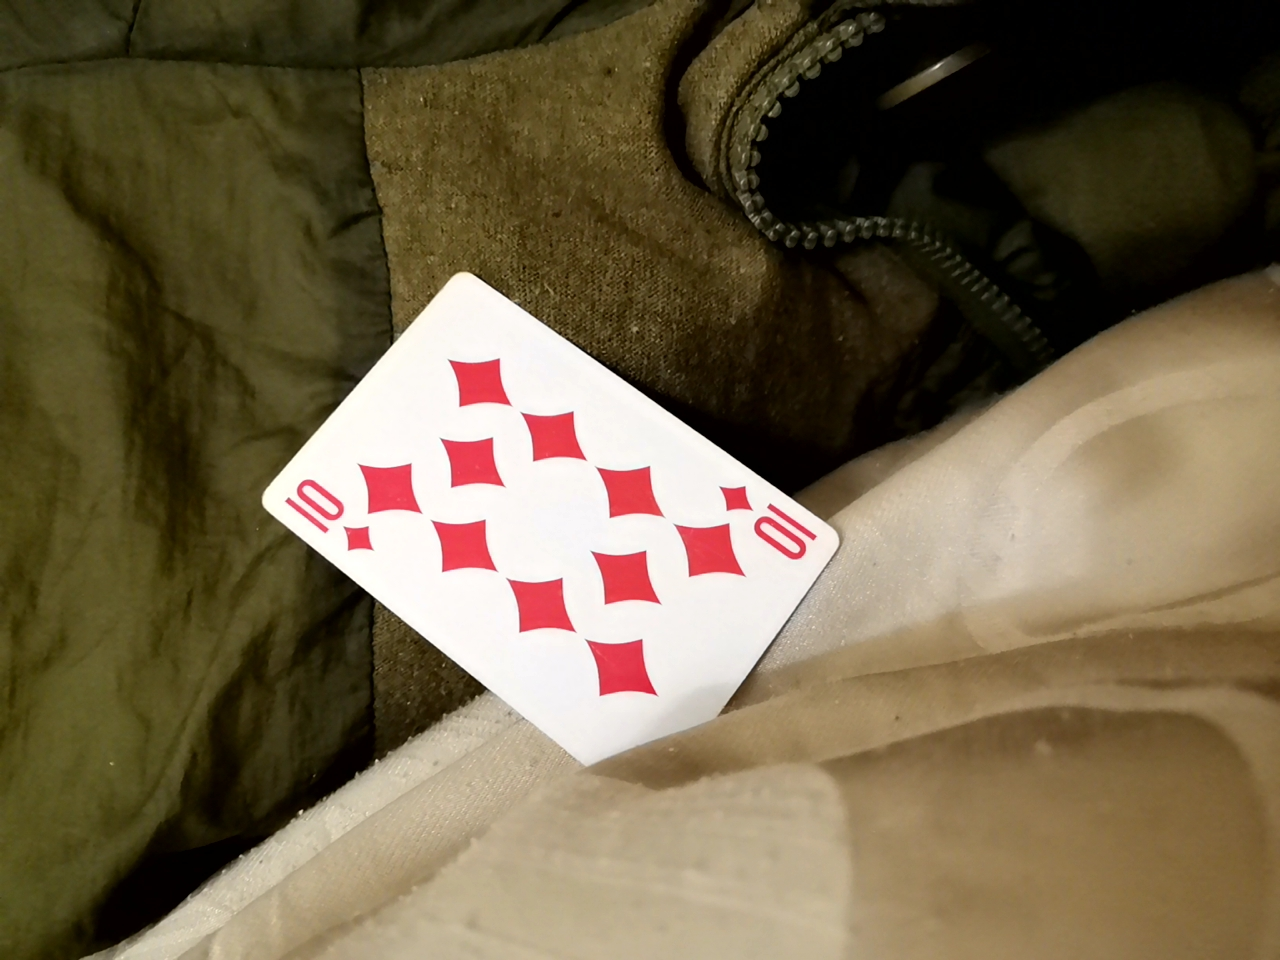fk 10: (236, 255, 844, 764)
